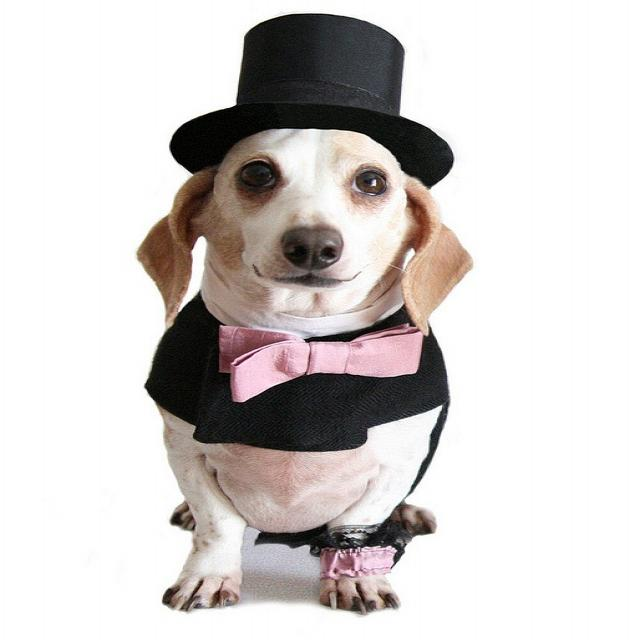dog: (130, 122, 468, 612)
